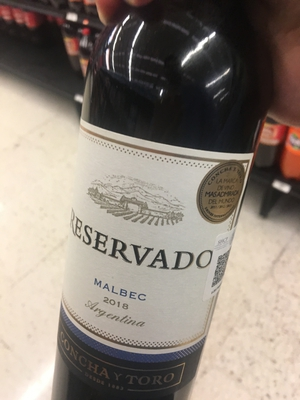reservado malbec: (55, 16, 265, 400)
